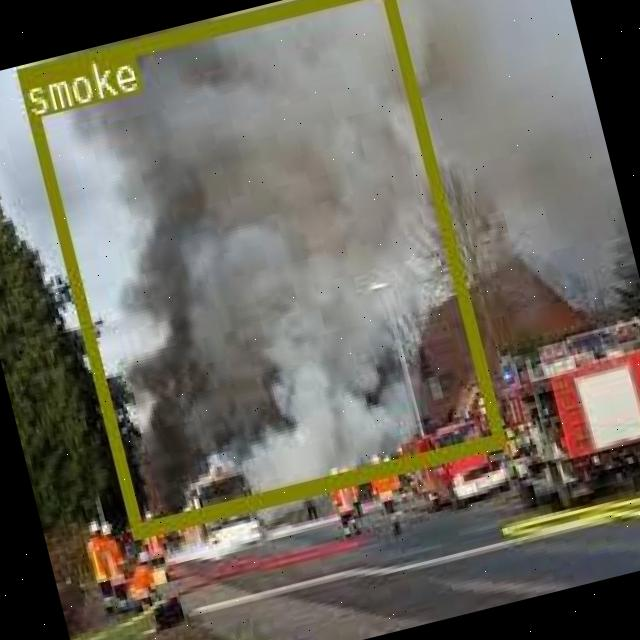smoke: (13, 0, 502, 537)
